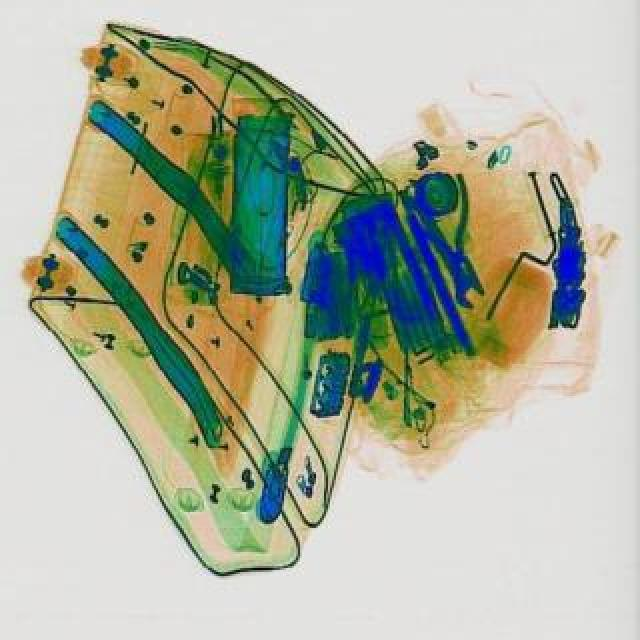scissors: (394, 184, 494, 318)
wrench: (404, 176, 516, 300)
